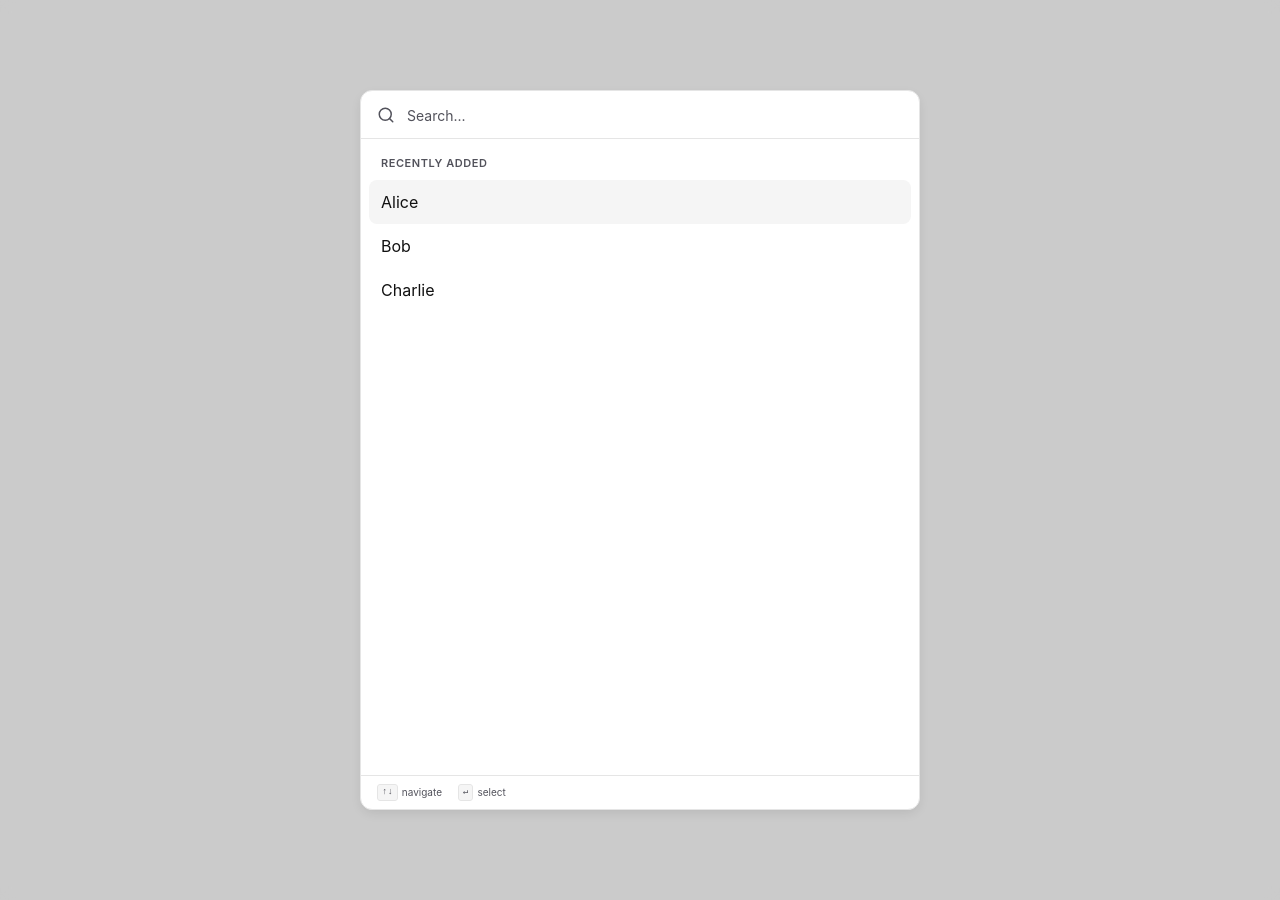
Test: SpotlightSearch — single mode › filters items using filterFn
Step 1. Type "ali" into the field with test id "spotlight-search-input" → (655, 116), box [407, 106, 903, 126]
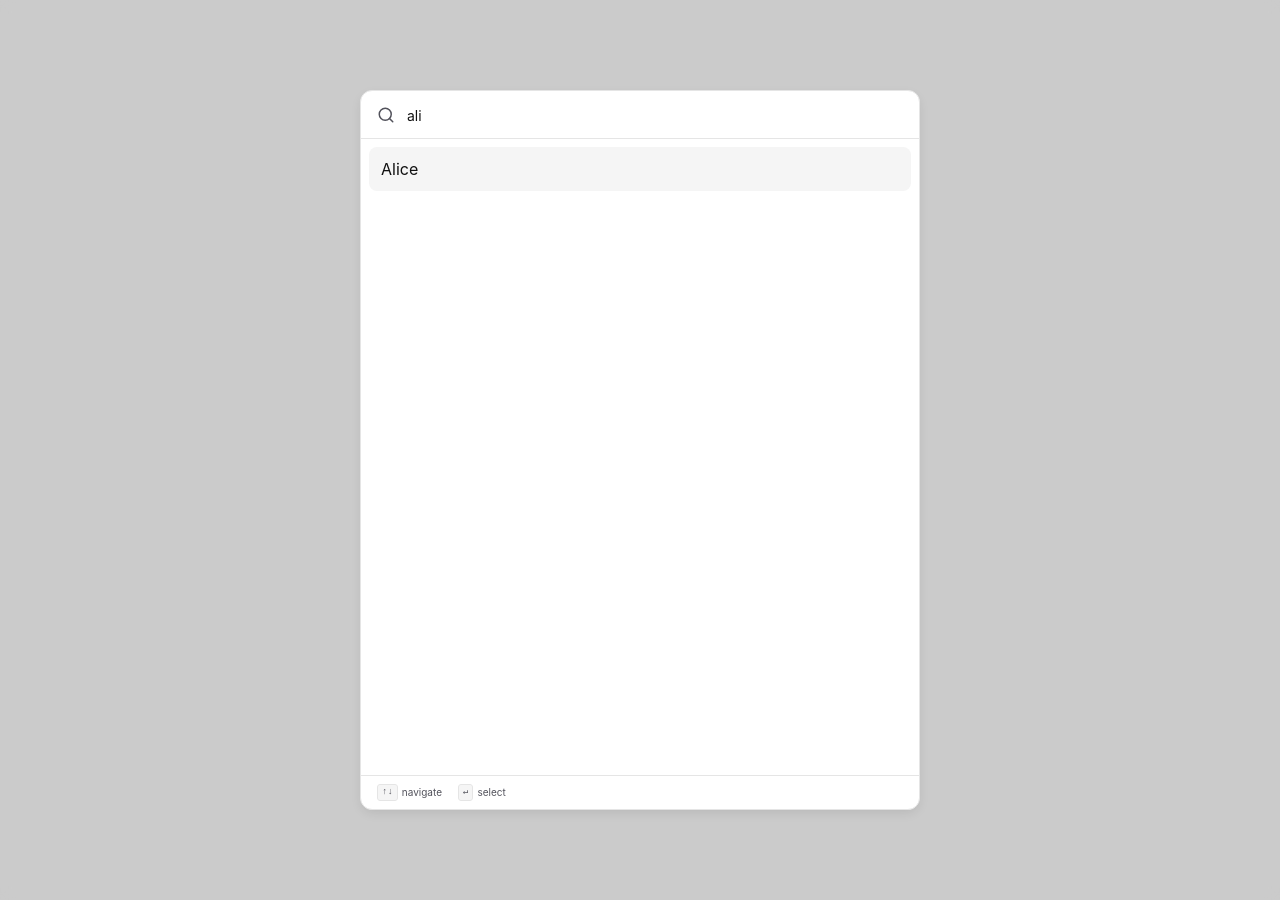
Expected: the text "Alice" is shown, [381, 159, 418, 179]
Result: the button "Bob" is gone
Result: the button "Charlie" is gone
